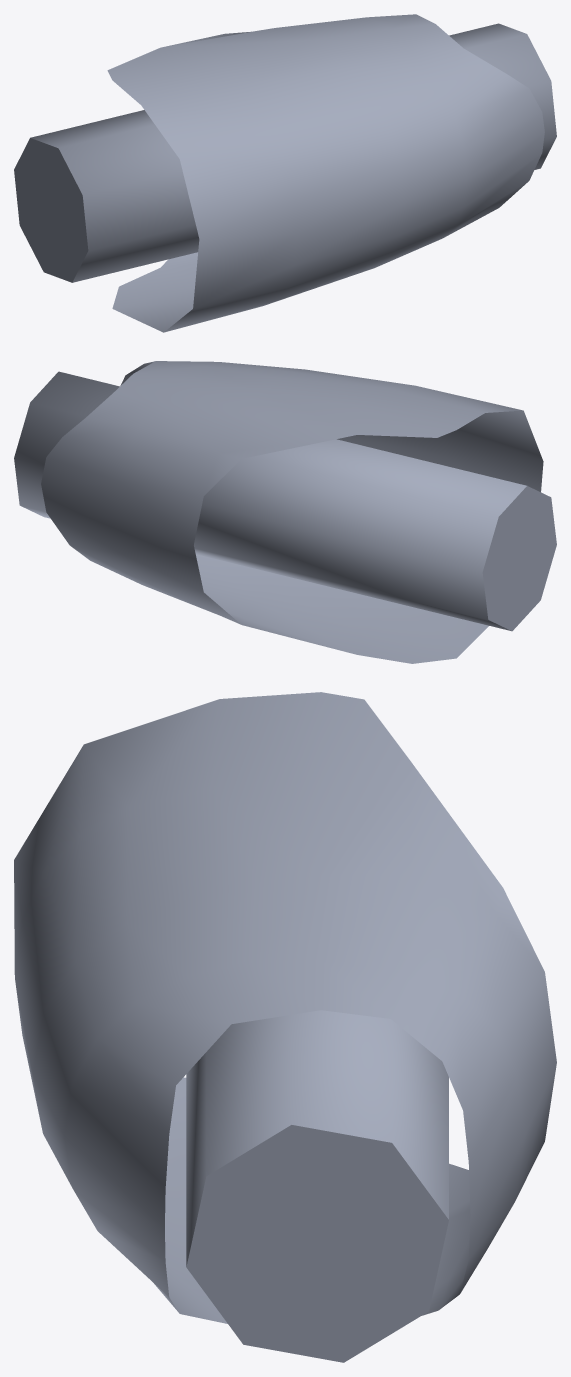
The model's file is l_forearm.dae.
3 views of the same model, one above another, from view 1: azimuth 30°, elevation 25°; view 2: azimuth 150°, elevation 25°; view 3: azimuth 270°, elevation 25° (orthographic). The views are drawn at different scales.
Visible parts, largest first — view 1: l_forearm_mesh; view 2: l_forearm_mesh; view 3: l_forearm_mesh.
Part boxes in pixels (x1,y1,x2,y2): l_forearm_mesh: [14, 14, 556, 332]; l_forearm_mesh: [14, 361, 556, 663]; l_forearm_mesh: [14, 692, 556, 1362].
Size of the model in its own units: 0.14 by 0.0795 by 0.0652.
